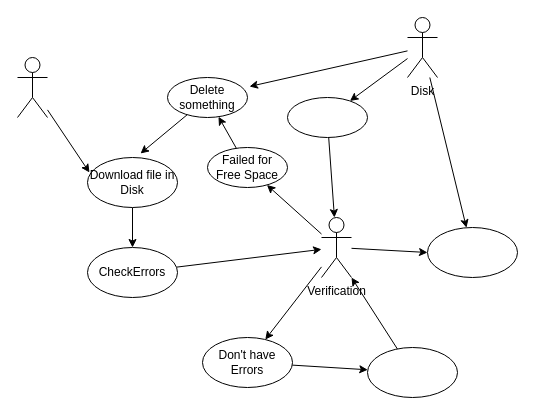
This 535x415 diagram has some shape labels left out. Here are the shapes that lost their labels. From the top down, the box of each, then its label:
(16, 56, 48, 118): File
(286, 96, 368, 138): Check Free Space
(426, 226, 518, 278): Success download file
(366, 346, 458, 398): Check download file
